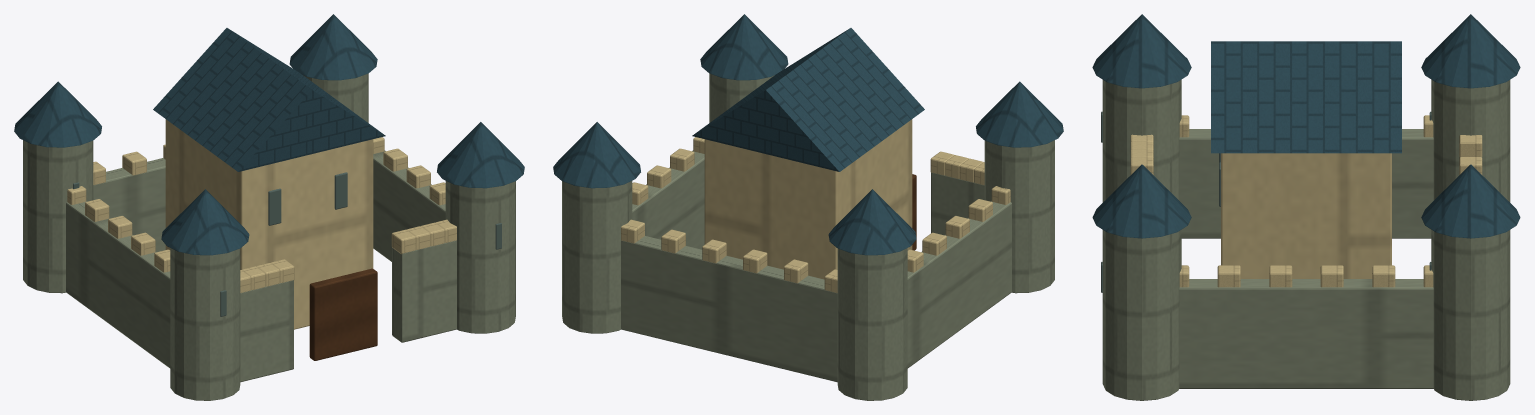
File: castle.glb
3 renders of one model, left to right at view 1: azimuth 30°, elevation 25°; view 2: azimuth 150°, elevation 25°; view 3: azimuth 270°, elevation 25°, orthographic. The views are drawn at different scales.
Visible parts, largest first — view 1: keep, keep_roof, tower, wall.001, tower.001, tower.002, wall.004, gate, wall.003, wall.002, wall, cap.002 (+13 smaller); view 2: wall, keep, keep_roof, tower.002, wall.001, tower.003, tower, wall.002, cap, cap.001, cap.002, cap.003 (+12 smaller); view 3: wall.002, keep_roof, keep, tower.003, tower.001, wall.001, tower.002, tower, cap.001, cap.003, cap, cap.002 (+5 smaller).
Boxes of the visible parts, x1=… form: keep: x1=165, y1=119, x2=373, y2=329; keep_roof: x1=153, y1=28, x2=385, y2=171; tower: x1=170, y1=248, x2=240, y2=400; wall.001: x1=66, y1=201, x2=170, y2=368; tower.001: x1=445, y1=181, x2=515, y2=333; tower.002: x1=23, y1=140, x2=93, y2=293; wall.004: x1=392, y1=240, x2=456, y2=342; gate: x1=309, y1=268, x2=377, y2=360; wall.003: x1=240, y1=280, x2=293, y2=382; wall.002: x1=373, y1=150, x2=445, y2=261; wall: x1=93, y1=158, x2=165, y2=251; cap.002: x1=14, y1=81, x2=101, y2=147; wall: x1=621, y1=236, x2=837, y2=382; keep: x1=704, y1=119, x2=912, y2=279; keep_roof: x1=692, y1=28, x2=924, y2=171; tower.002: x1=837, y1=248, x2=907, y2=400; wall.001: x1=907, y1=201, x2=1011, y2=368; tower.003: x1=562, y1=181, x2=632, y2=333; tower: x1=984, y1=140, x2=1054, y2=293; wall.002: x1=632, y1=150, x2=704, y2=249; cap: x1=976, y1=81, x2=1063, y2=147; cap.001: x1=700, y1=14, x2=788, y2=80; cap.002: x1=828, y1=189, x2=916, y2=255; cap.003: x1=553, y1=122, x2=640, y2=188; wall.002: x1=1179, y1=279, x2=1433, y2=388; keep_roof: x1=1211, y1=41, x2=1401, y2=153; keep: x1=1221, y1=153, x2=1391, y2=278; tower.003: x1=1431, y1=230, x2=1510, y2=400; tower.001: x1=1102, y1=230, x2=1181, y2=400; wall.001: x1=1179, y1=129, x2=1433, y2=238; tower.002: x1=1431, y1=79, x2=1510, y2=202; tower: x1=1102, y1=79, x2=1181, y2=202; cap.001: x1=1092, y1=164, x2=1191, y2=238; cap.003: x1=1421, y1=164, x2=1520, y2=238; cap: x1=1092, y1=14, x2=1191, y2=88; cap.002: x1=1421, y1=14, x2=1520, y2=88.
Bounding box in the file's own units: 6.91 × 4.5 × 6.51.
Materials: 5 (4 with a texture image).
